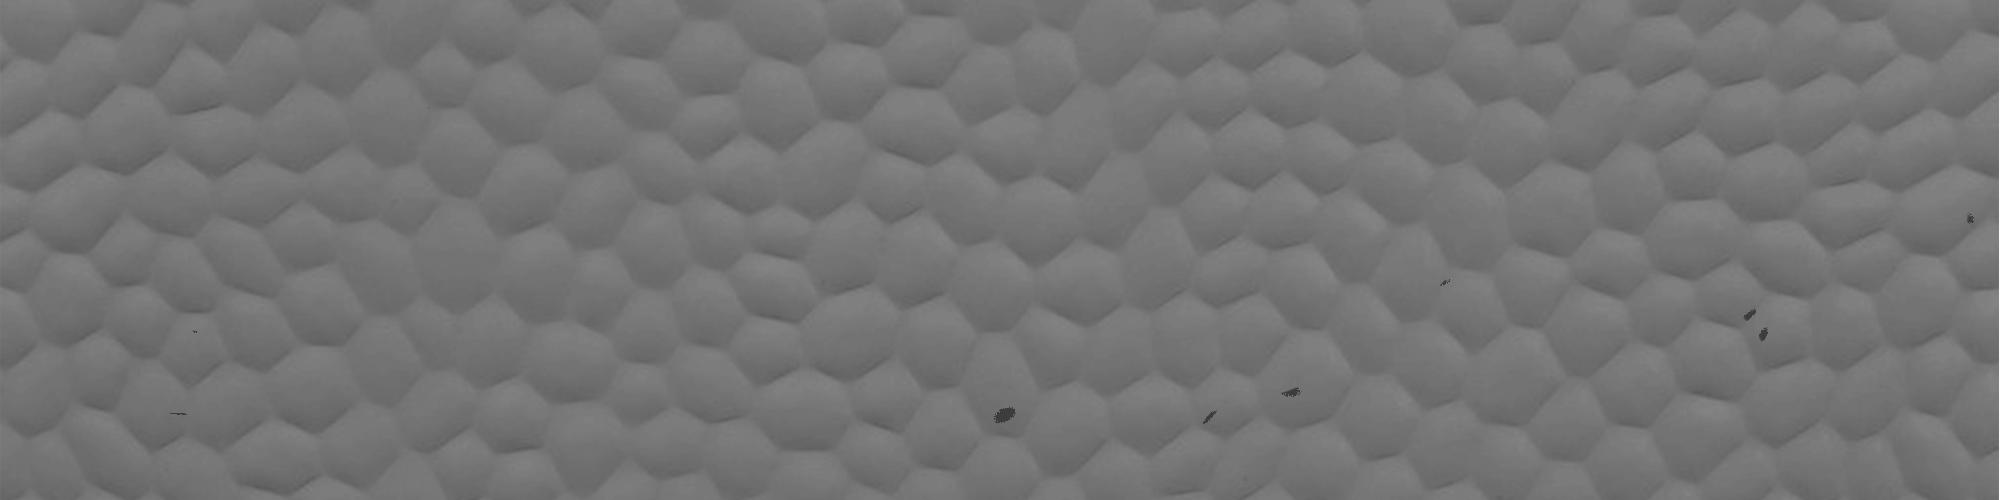Decomposed: (985, 403, 1026, 426), (168, 402, 196, 431), (1195, 399, 1222, 427), (177, 321, 207, 344), (1434, 268, 1458, 293), (1279, 386, 1307, 406)
